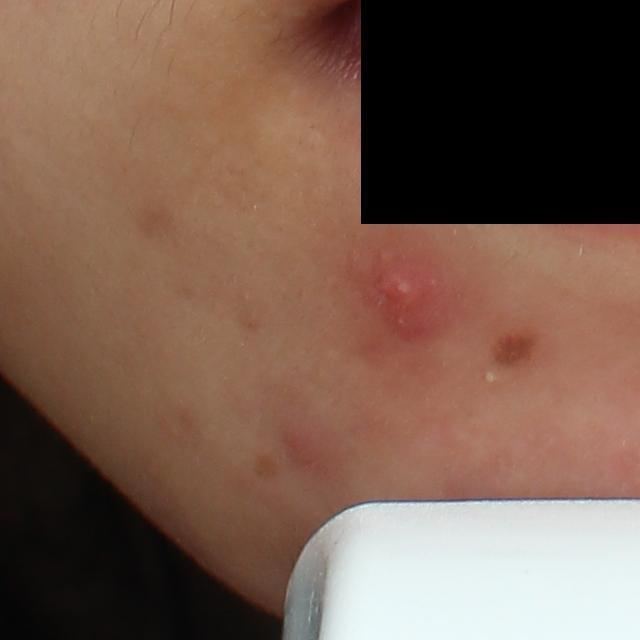nevus: (486, 326, 546, 370)
papule: (369, 246, 438, 314), (283, 421, 329, 472)
